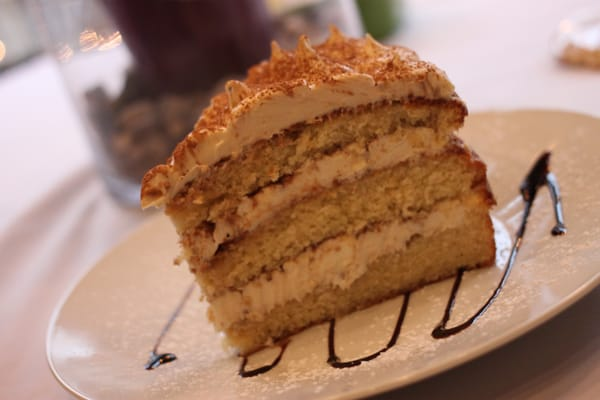sushi: (138, 25, 497, 357)
